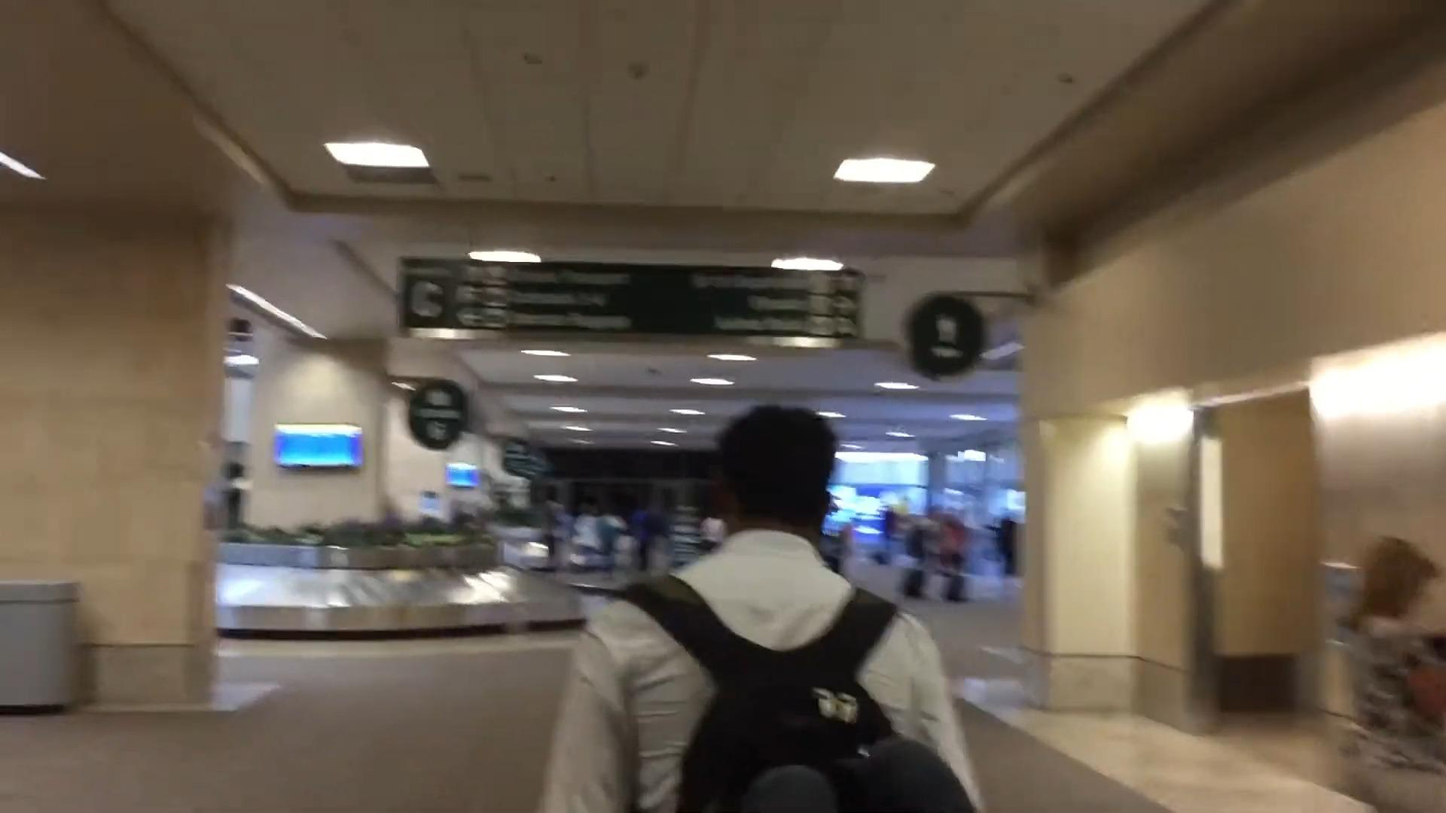luggage: (897, 568, 927, 599), (942, 575, 968, 604)
